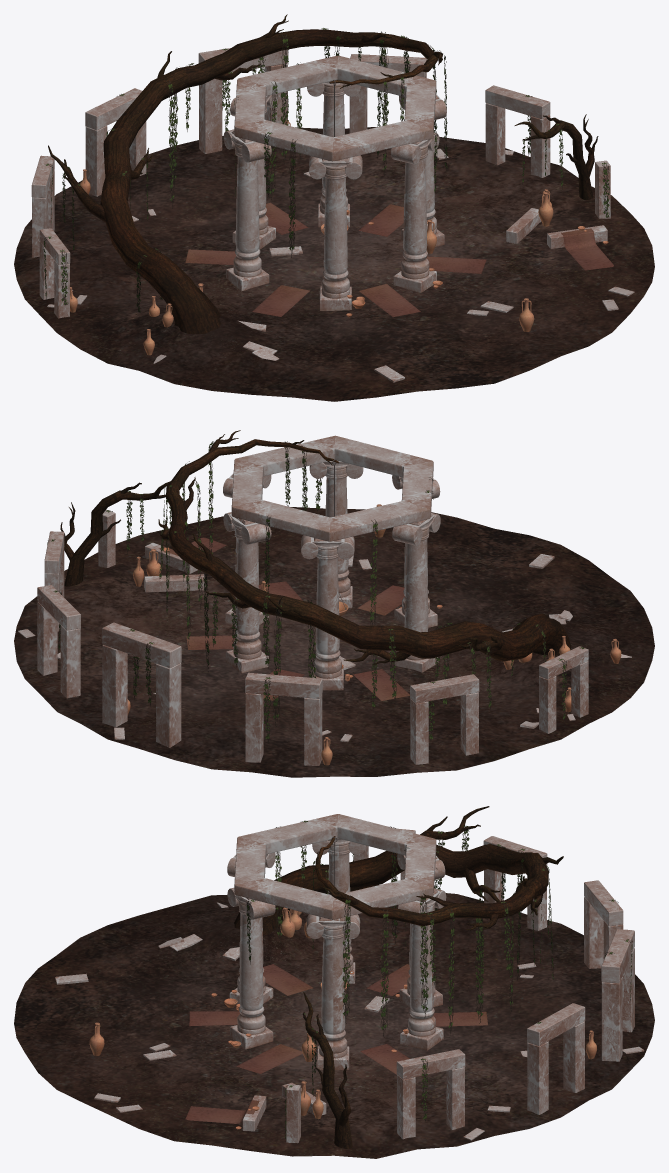
Rendered from shrine_of_the_oracle.glb.
The picture shows the model from 3 angles, top to bottom: view 1: azimuth 30°, elevation 25°; view 2: azimuth 150°, elevation 25°; view 3: azimuth 270°, elevation 25°; orthographic projection.
Parts seen in each view (by area): view 1: floorplane, polySurface101, pTorus1, column5, column3, column4, arch13, arch11, arch12, arch9, column6, polySurface32 (+15 smaller); view 2: floorplane, polySurface101, pTorus1, arch12, arch11, arch5, column2, column6, column3, arch9, polySurface32, column4 (+14 smaller); view 3: floorplane, polySurface101, pTorus1, arch5, column4, column1, arch12, column6, arch13, arch11, polySurface32, column3 (+17 smaller).
Boxes of the visible parts, x1,y1,x2,y2 form: floorplane: (14, 127, 654, 401); polySurface101: (48, 14, 442, 333); pTorus1: (234, 55, 436, 161); column5: (309, 155, 362, 310); column3: (223, 129, 271, 291); column4: (391, 132, 439, 292); arch13: (485, 85, 550, 177); arch11: (85, 88, 146, 196); arch12: (198, 48, 287, 153); arch9: (39, 228, 70, 318); column6: (307, 80, 360, 227); polySurface32: (514, 114, 598, 199); floorplane: (14, 507, 654, 777); polySurface101: (158, 430, 571, 665); pTorus1: (231, 435, 433, 541); arch12: (102, 622, 181, 747); arch11: (245, 672, 322, 765); arch5: (37, 585, 80, 698); column2: (301, 535, 354, 690); column6: (223, 512, 271, 673); column3: (392, 512, 440, 672); arch9: (539, 646, 588, 733); polySurface32: (60, 481, 170, 586); column4: (309, 460, 363, 608); floorplane: (14, 885, 654, 1158); polySurface101: (234, 806, 563, 990); pTorus1: (234, 814, 436, 919); arch5: (527, 1003, 585, 1114); column4: (227, 887, 275, 1049); column1: (306, 914, 360, 1069); arch12: (601, 929, 634, 1061); column6: (398, 888, 446, 1050); arch13: (396, 1049, 465, 1139); arch11: (584, 880, 623, 968); polySurface32: (302, 992, 352, 1148); column3: (312, 838, 365, 983).
Bounding box in the file's own units: 1373 × 460 × 1373.
Materials: 9 (7 with a texture image).
